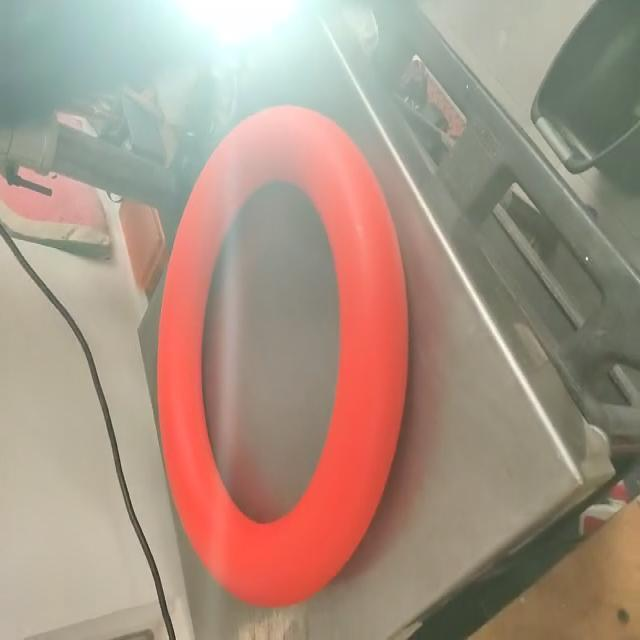note: (151, 97, 417, 614)
